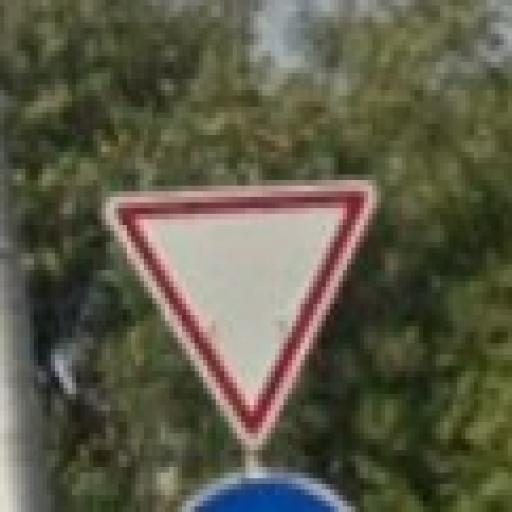traffic_sign: (103, 181, 378, 457)
